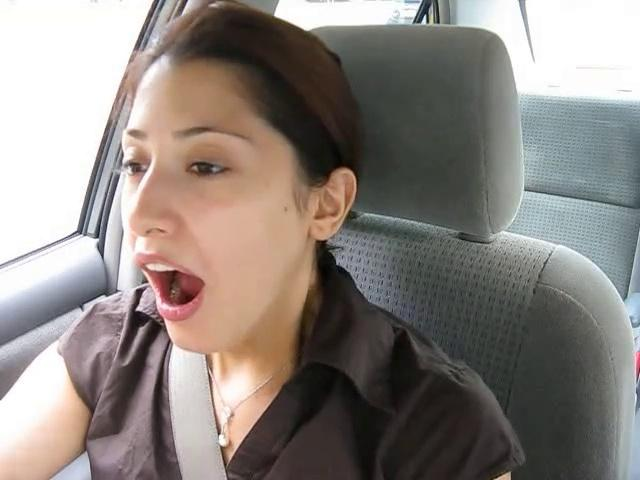close_eyeL: (107, 145, 160, 186)
close_eyeR: (173, 145, 245, 191)
yawn: (123, 254, 229, 328)
